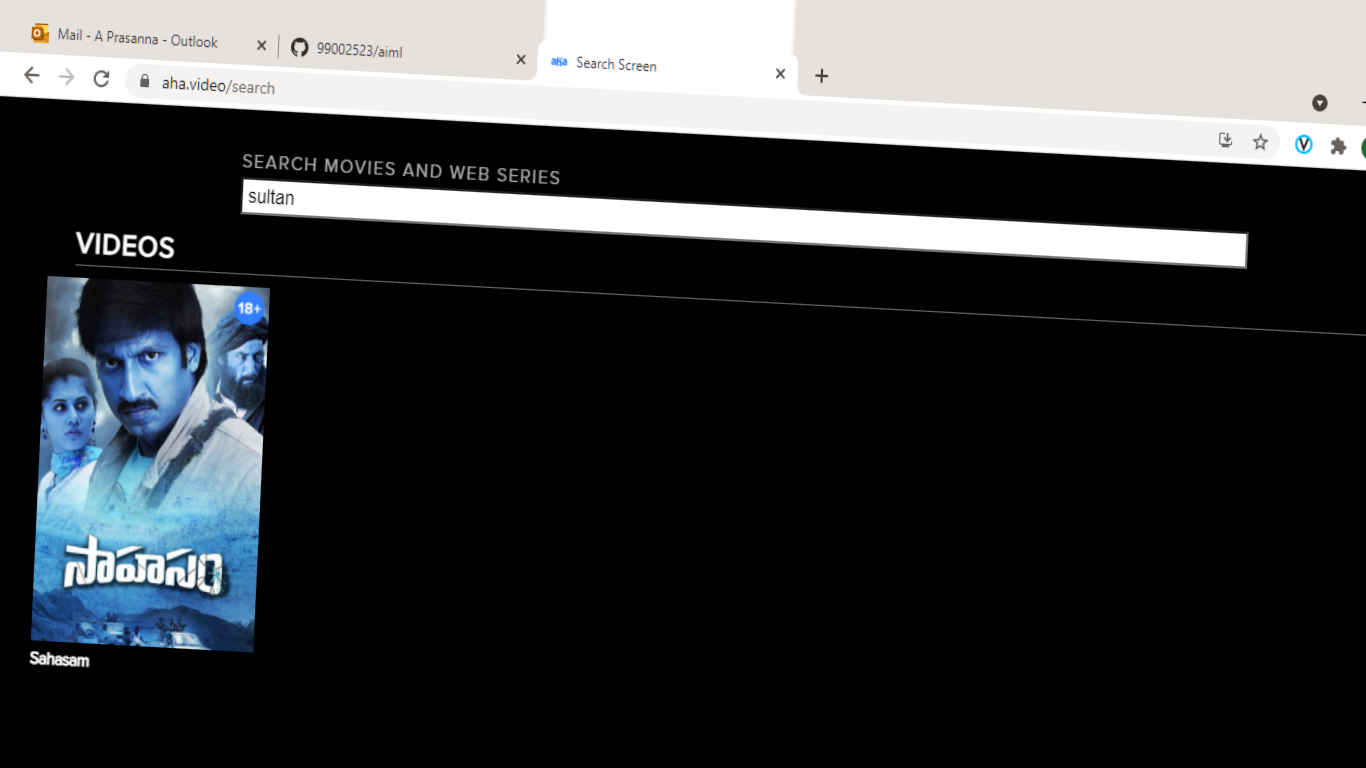resultsfound: (38, 215, 314, 278)
searchtextbox: (230, 145, 1260, 307)
